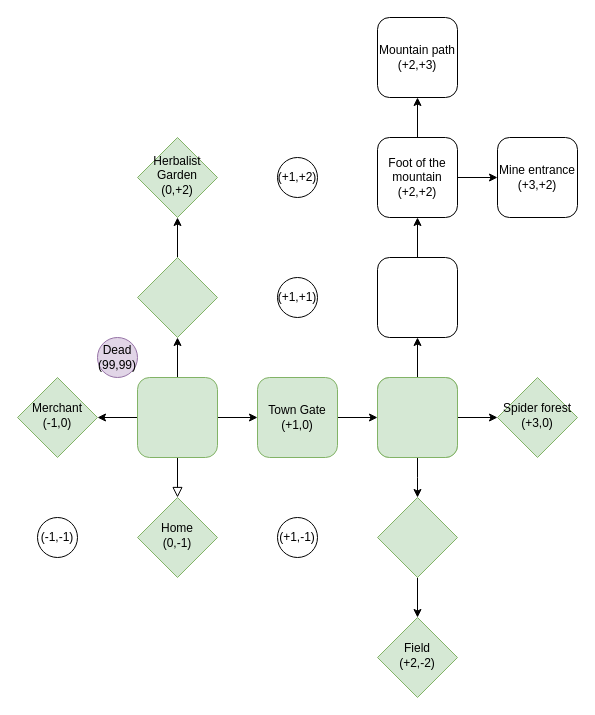
Some shapes in this 595 by 715 pixel diagram are drawn without their labels. Each missing label, with the centre of its shape:
Herbalist (0,+1): [177,297]
Lonely Farm (+2,-1): [417,537]
Road outside the town (+2,0): [417,417]
The northern road (+2,+1): [417,297]
Town Square (0,0): [177,417]
